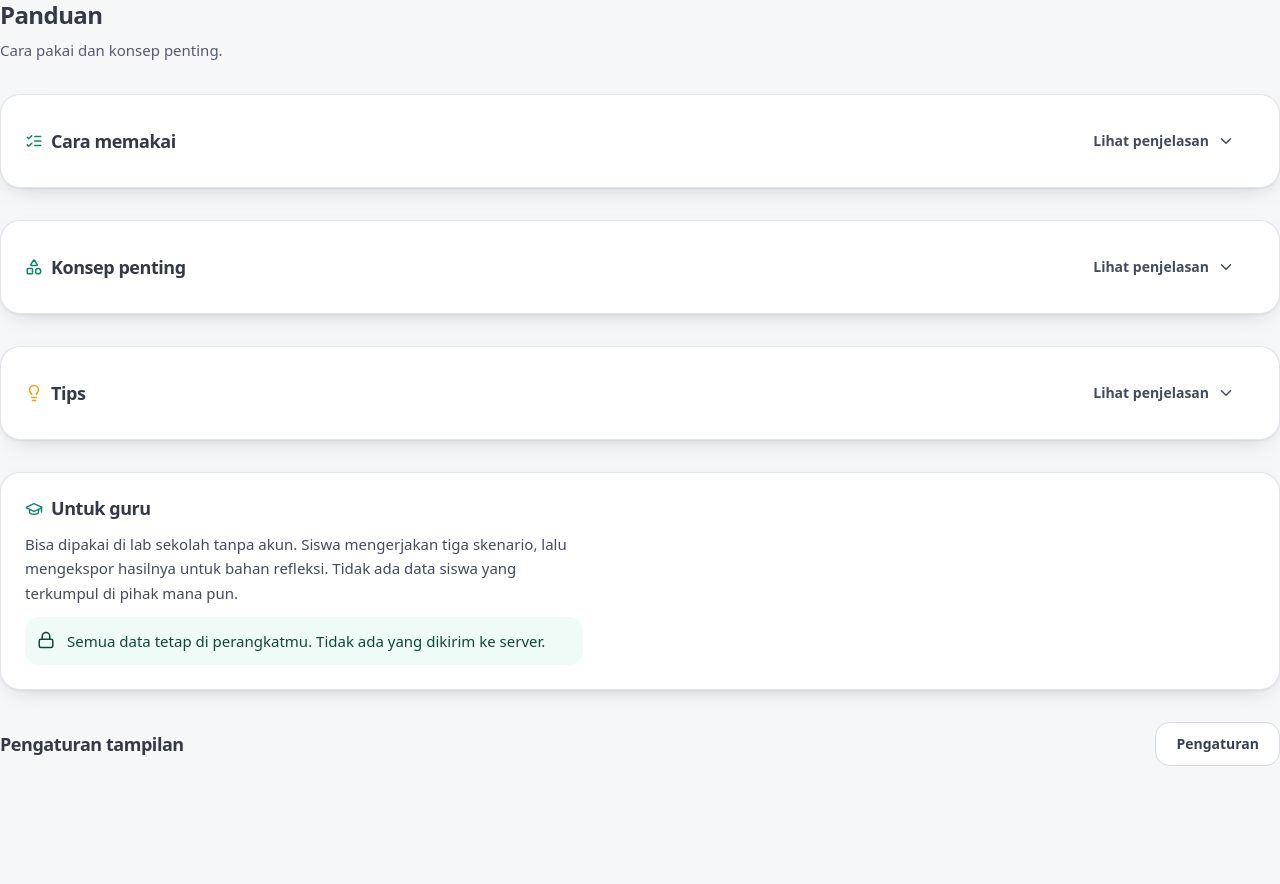
GuidePage — pengaturan tampilan › menampilkan dan menyembunyikan formulir pengaturan
expect the field labelled "Nama panggilan" is not shown: met
Click the button "Pengaturan" at (1218,744), box [1155, 722, 1279, 766]
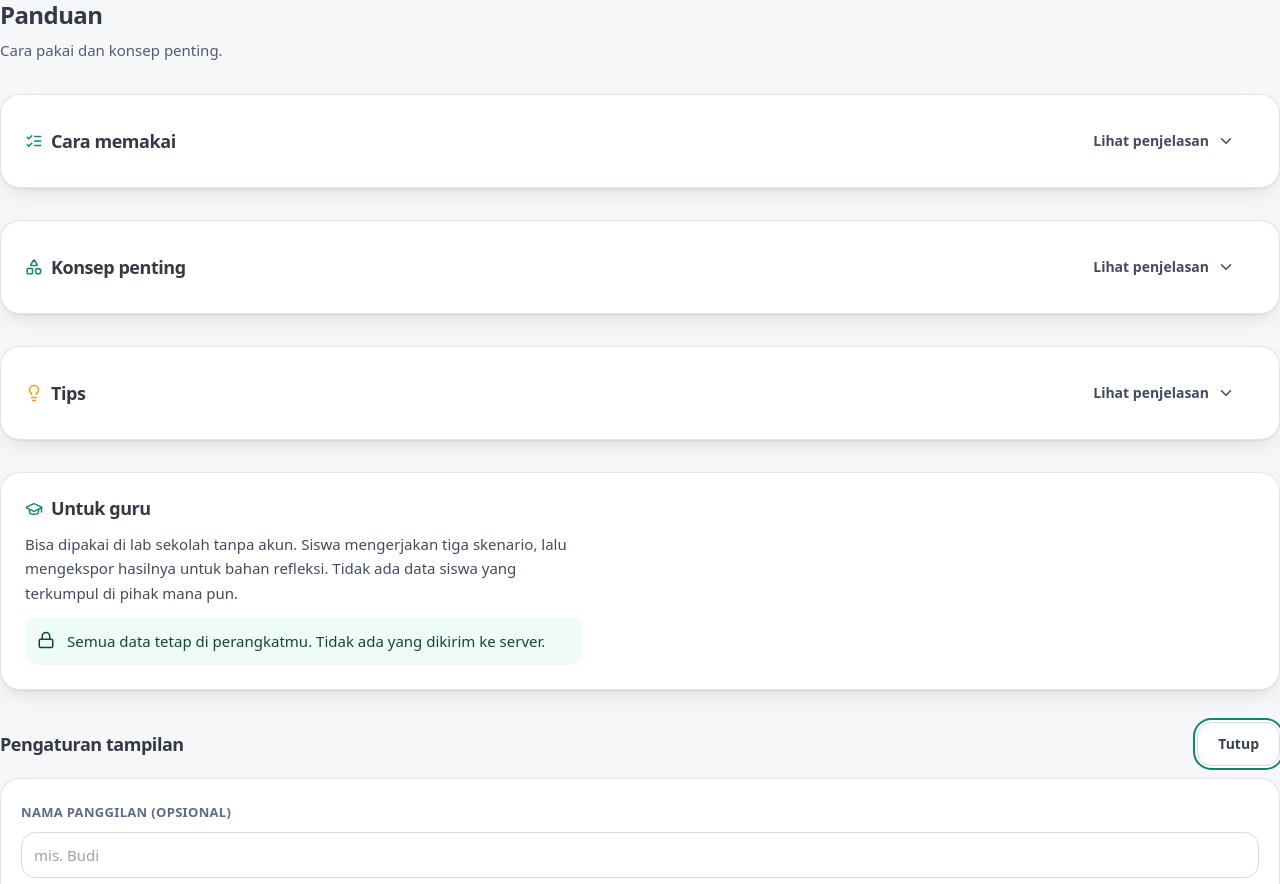
expect the field labelled "Nama panggilan (opsional)" is shown: met, box [21, 832, 1259, 878]
expect the button "Tutup" is expanded: met
Click the button "Tutup" at (1239,744), box [1197, 722, 1279, 766]
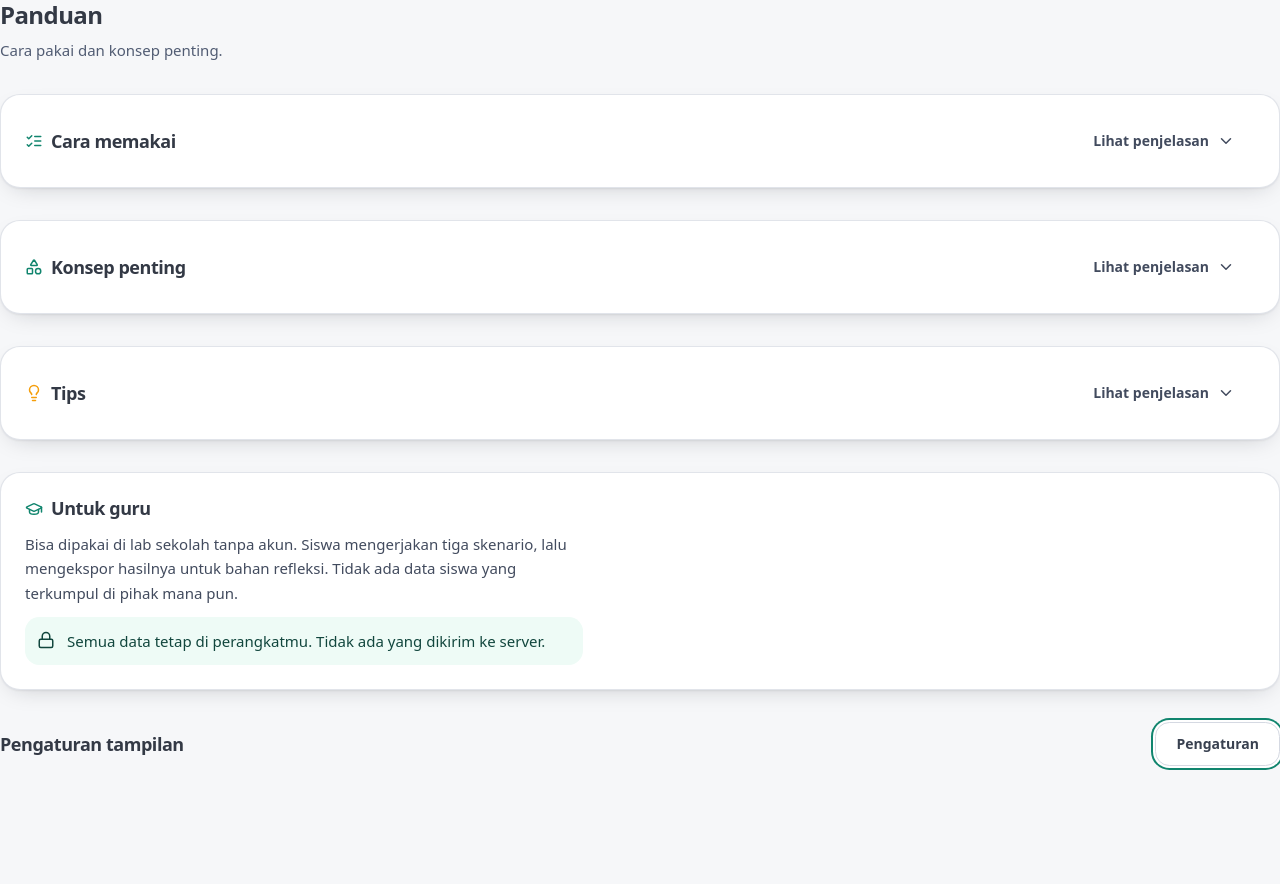
expect the label labelled "Nama panggilan" is gone: met
